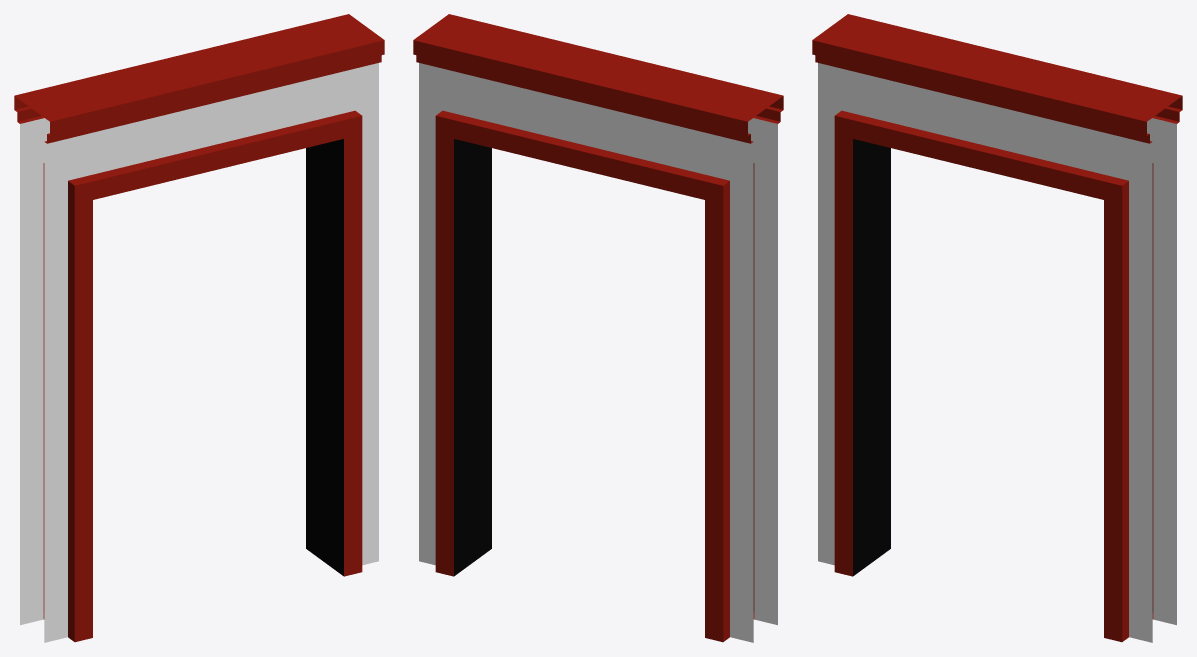
File: SM_Wall_Door_2x3_01.fbx
3 views of the same model, side by side, from view 1: azimuth 30°, elevation 25°; view 2: azimuth 150°, elevation 25°; view 3: azimuth 330°, elevation 25° (orthographic).
Parts seen in each view (by area): view 1: SM_Wall_Door_2x3_01; view 2: SM_Wall_Door_2x3_01; view 3: SM_Wall_Door_2x3_01.
Part boxes in pixels (x1,y1,x2,y2): SM_Wall_Door_2x3_01: (14, 14, 384, 642); SM_Wall_Door_2x3_01: (413, 14, 783, 642); SM_Wall_Door_2x3_01: (812, 14, 1182, 642).
Bounding box in the file's own units: 78.74 × 118 × 15.53.
